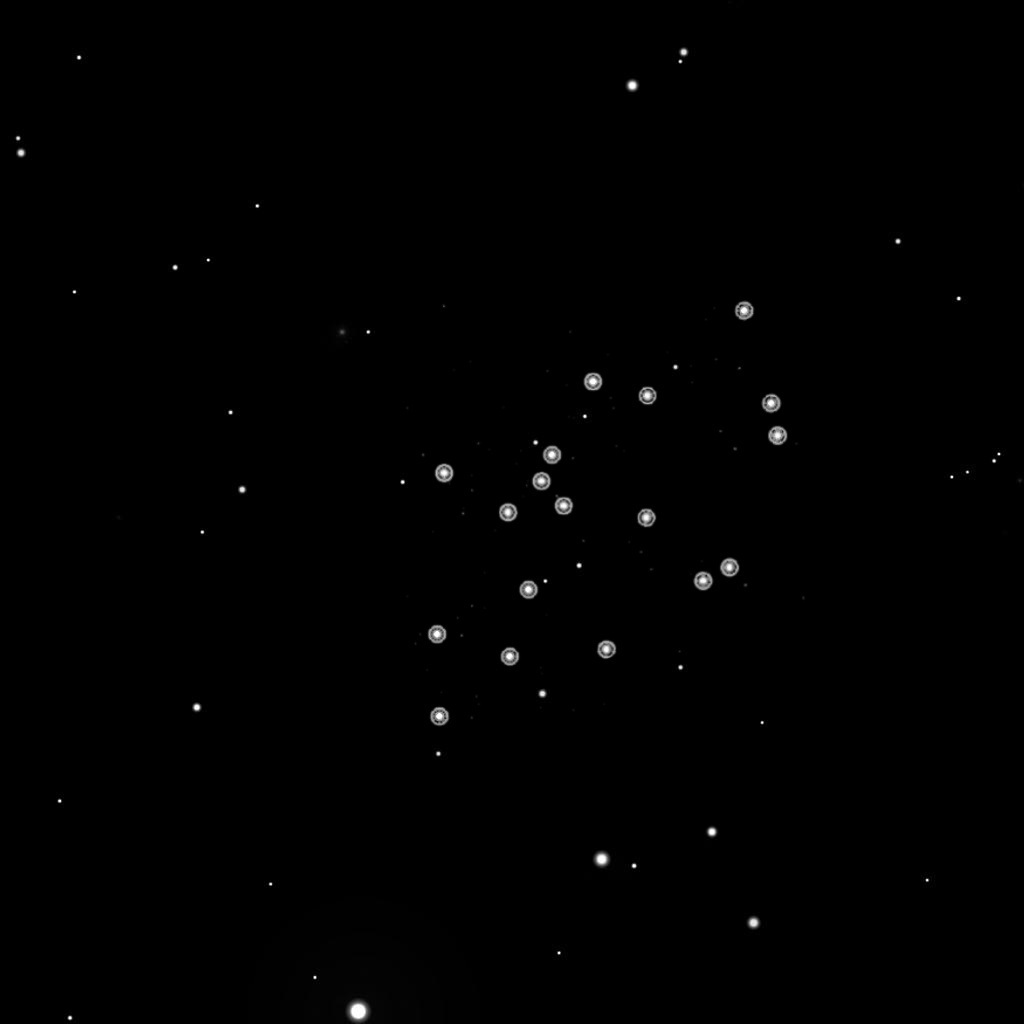canis_major: (492, 370, 663, 526)
